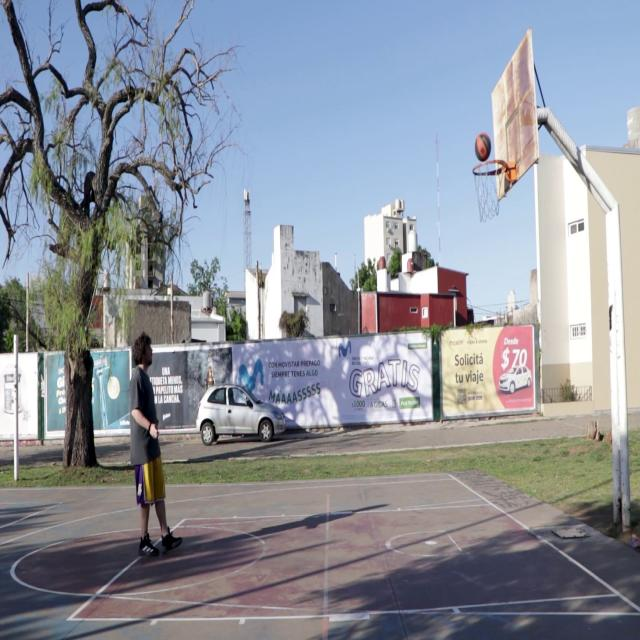ball: (474, 132, 492, 162)
